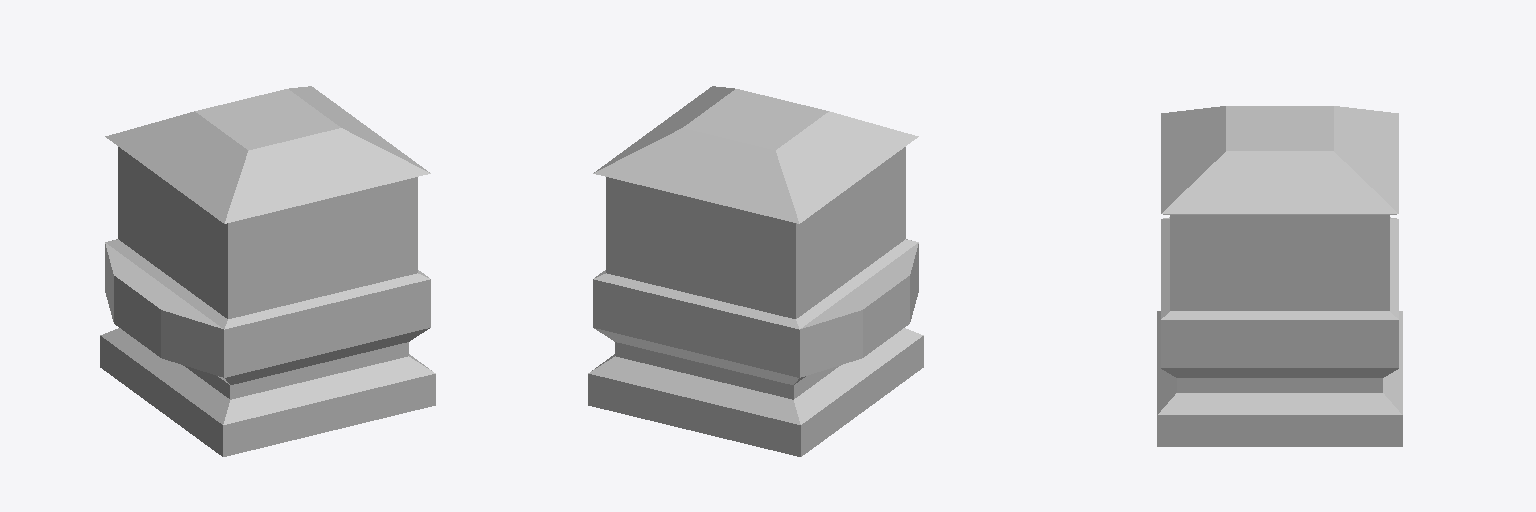
The model's file is tollboothbase.obj.
The picture shows the model from 3 angles: view 1: azimuth 30°, elevation 25°; view 2: azimuth 150°, elevation 25°; view 3: azimuth 270°, elevation 25°; orthographic projection.
Parts seen in each view (by area): view 1: tollbooth; view 2: tollbooth; view 3: tollbooth.
Boxes of the visible parts, x1,y1,x2,y2 form: tollbooth: [100, 86, 435, 456]; tollbooth: [588, 86, 923, 456]; tollbooth: [1157, 106, 1402, 446].
Size of the model in its own units: 7.74 by 8.34 by 6.95.